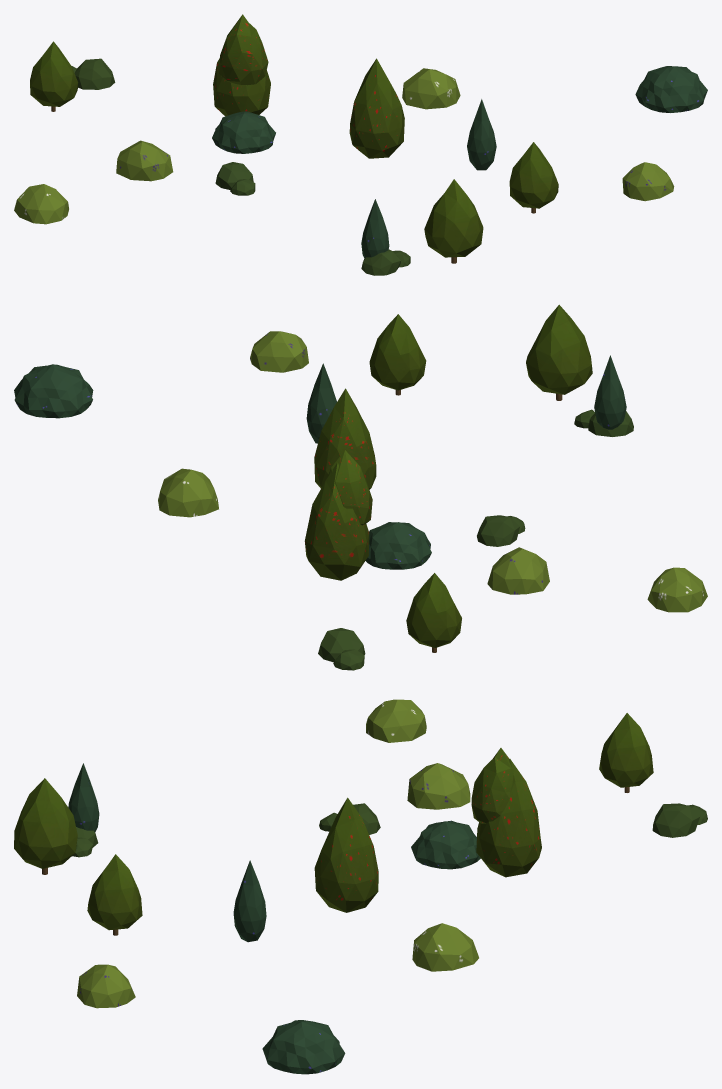
Rendered from Bushes12.gltf.
The picture shows the model from 3 angles, top to bottom: view 1: azimuth 30°, elevation 25°; view 2: azimuth 150°, elevation 25°; view 3: azimuth 270°, elevation 25°; orthographic projection. The views are drawn at different scales.
Visible parts, largest first — view 1: Hollytree3 - copy.013, Hollytree2 - copy.020, JuniperBush1 - copy.009, Hollytree1 - copy.014, Hollytree2 - copy.013, Hollytree2 - copy.006, JuniperBush1 - copy.019, ElderberryBush1 - copy.025, Hollytree3 - copy.017, ElderberryBush2 - copy.004, ElderberryBush1 - copy.020, ElderberryBush2 - copy.017 (+5 smaller); view 2: Hollytree3 - copy.017, Hollytree2 - copy.020, JuniperBush1 - copy.009, Hollytree3 - copy.013, Hollytree2 - copy.013, Hollytree2 - copy.006, JuniperBush1 - copy.019, ElderberryBush1 - copy.025, ElderberryBush2 - copy.004, ElderberryBush1 - copy.020, ElderberryBush2 - copy.017, Hollytree1 - copy.014 (+5 smaller); view 3: Hollytree3 - copy.013, Hollytree3 - copy.017, Hollytree2 - copy.020, JuniperBush1 - copy.009, Hollytree2 - copy.013, Hollytree2 - copy.006, JuniperBush1 - copy.019, ElderberryBush1 - copy.025, ElderberryBush2 - copy.004, Hollytree1 - copy.014, ElderberryBush1 - copy.020, ElderberryBush2 - copy.017 (+4 smaller).
Boxes of the visible parts, x1,y1,x2,y2 form: Hollytree3 - copy.013: (349, 58, 404, 158); Hollytree2 - copy.020: (424, 179, 483, 263); JuniperBush1 - copy.009: (635, 66, 707, 112); Hollytree1 - copy.014: (219, 14, 268, 85); Hollytree2 - copy.013: (509, 142, 558, 213); Hollytree2 - copy.006: (30, 41, 78, 111); JuniperBush1 - copy.019: (212, 111, 275, 153); ElderberryBush1 - copy.025: (402, 68, 460, 109); Hollytree3 - copy.017: (213, 58, 270, 116); ElderberryBush2 - copy.004: (116, 140, 173, 181); ElderberryBush1 - copy.020: (14, 184, 68, 224); ElderberryBush2 - copy.017: (622, 162, 674, 201); Hollytree3 - copy.017: (304, 462, 369, 580); Hollytree2 - copy.020: (526, 304, 592, 400); JuniperBush1 - copy.009: (14, 364, 93, 418); Hollytree3 - copy.013: (314, 388, 376, 489); Hollytree2 - copy.013: (369, 314, 426, 395); Hollytree2 - copy.006: (406, 573, 461, 652); JuniperBush1 - copy.019: (365, 522, 431, 569); ElderberryBush1 - copy.025: (158, 468, 218, 517); ElderberryBush2 - copy.004: (487, 547, 549, 594); ElderberryBush1 - copy.020: (647, 567, 707, 612); ElderberryBush2 - copy.017: (250, 331, 308, 372); Hollytree1 - copy.014: (327, 450, 372, 525); Hollytree3 - copy.013: (314, 797, 378, 912); Hollytree3 - copy.017: (476, 759, 541, 877); Hollytree2 - copy.020: (14, 778, 77, 874); JuniperBush1 - copy.009: (262, 1020, 345, 1074); Hollytree2 - copy.013: (87, 854, 142, 935); Hollytree2 - copy.006: (599, 713, 653, 792); JuniperBush1 - copy.019: (411, 820, 480, 869); ElderberryBush1 - copy.025: (412, 923, 478, 971); ElderberryBush2 - copy.004: (407, 763, 470, 809); Hollytree1 - copy.014: (471, 748, 514, 823); ElderberryBush1 - copy.020: (366, 699, 426, 742); ElderberryBush2 - copy.017: (77, 964, 135, 1008).
Size of the model in its own units: 27.76 by 4.43 by 22.77.
8 materials, 8 textured.
